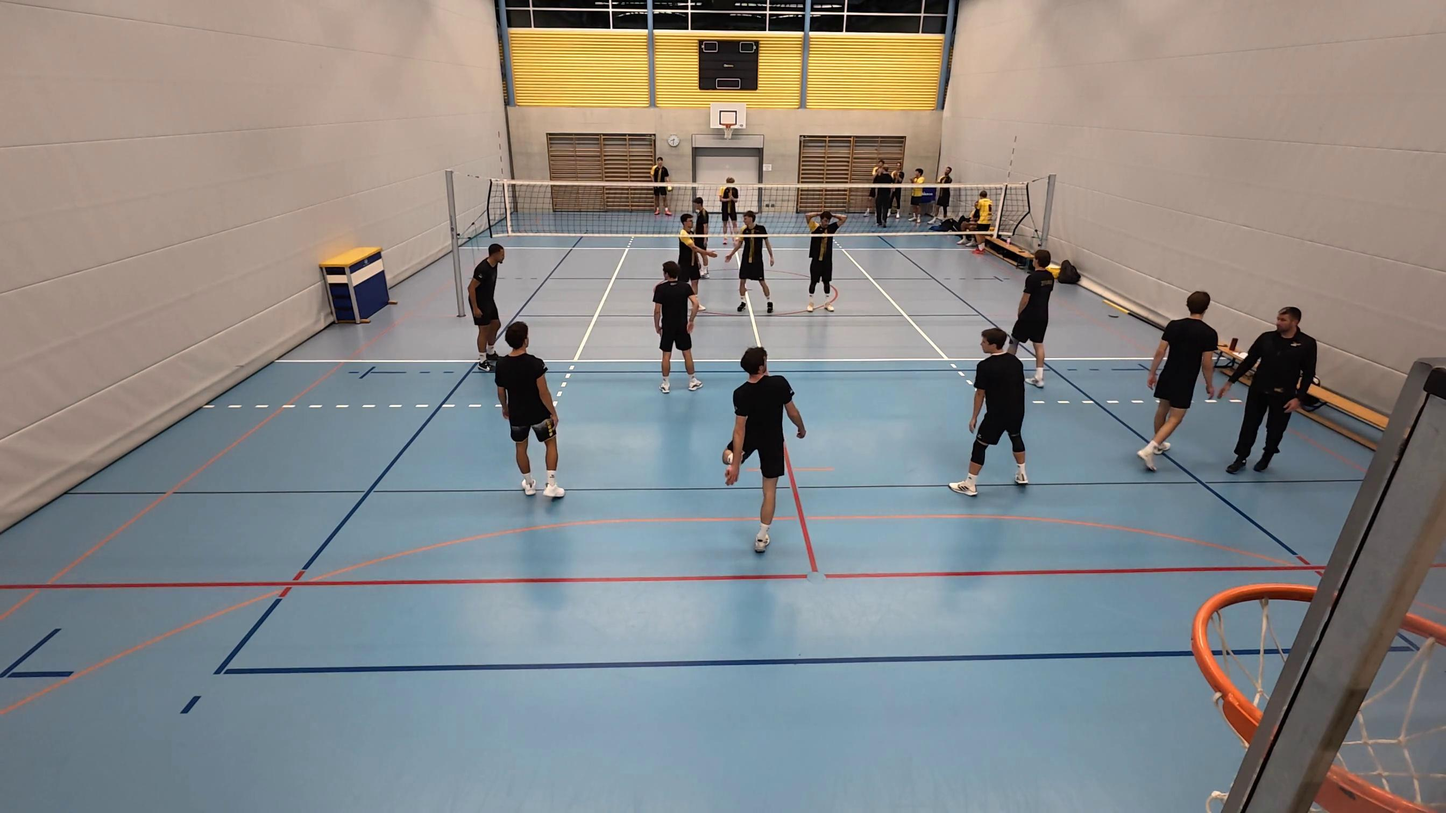Player: (724, 346, 806, 552), (1138, 291, 1220, 470), (949, 328, 1028, 496), (493, 322, 565, 499), (1005, 248, 1061, 389), (650, 260, 700, 393), (466, 244, 505, 369), (731, 210, 775, 315), (802, 209, 840, 312), (678, 212, 712, 314), (715, 176, 741, 244), (649, 157, 672, 219)
ball: (1054, 261, 1074, 281)
